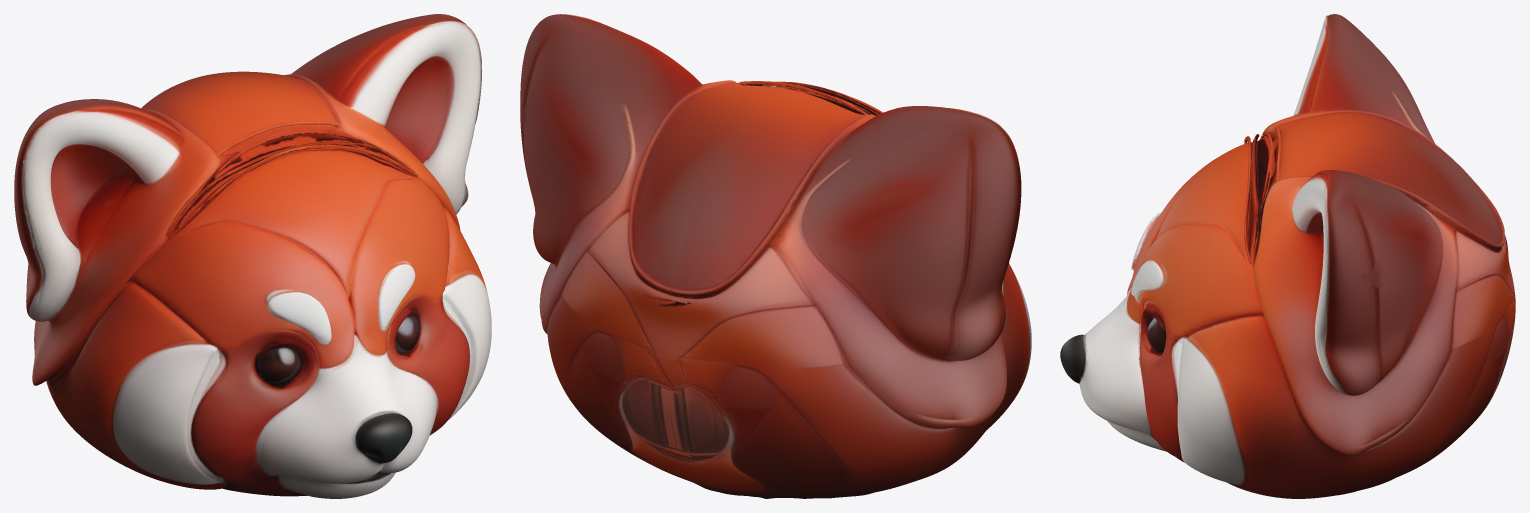
File: base_basic_shaded.glb
3 views of the same model, side by side, from view 1: azimuth 30°, elevation 25°; view 2: azimuth 150°, elevation 25°; view 3: azimuth 270°, elevation 25° (orthographic). The views are drawn at different scales.
Parts seen in each view (by area): view 1: model; view 2: model; view 3: model.
Part boxes in pixels (bbox=[...]): model: bbox=[14, 14, 491, 498]; model: bbox=[520, 14, 1031, 498]; model: bbox=[1060, 14, 1515, 498].
Size of the model in its own units: 1.9 by 1.53 by 1.75.
Materials: 1 (1 with a texture image).
